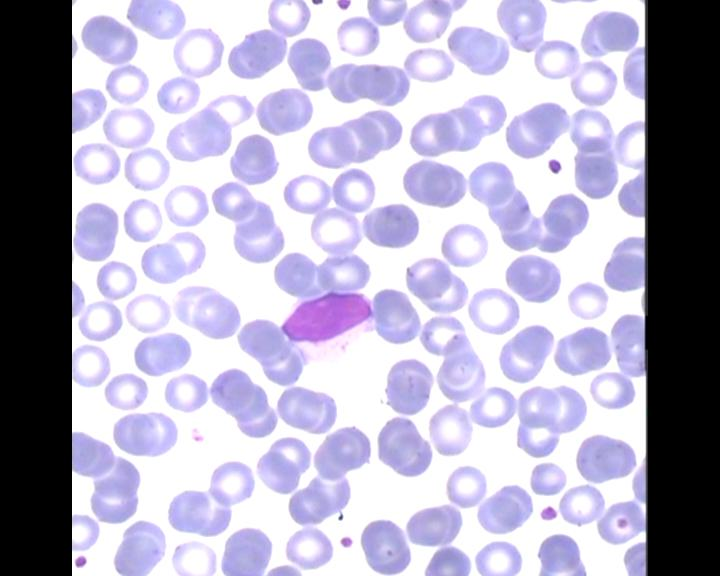mono: (278, 287, 380, 362)
